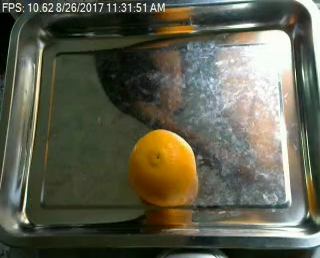Orange: (129, 129, 197, 206)
